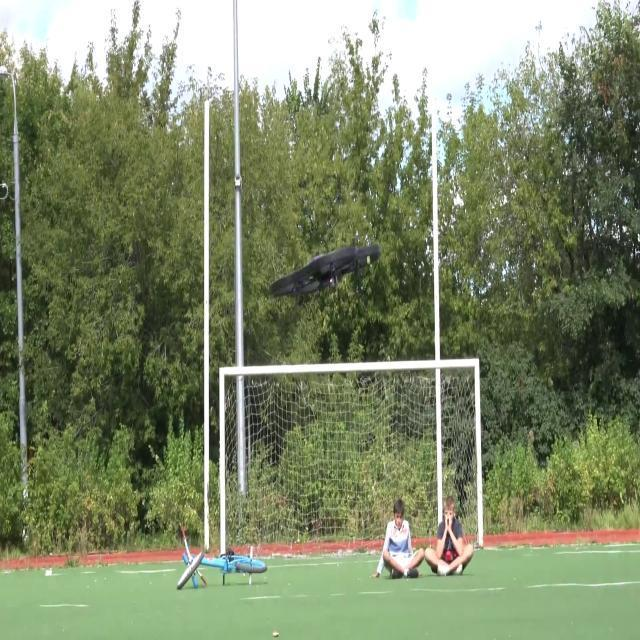Drons: (269, 240, 386, 304)
